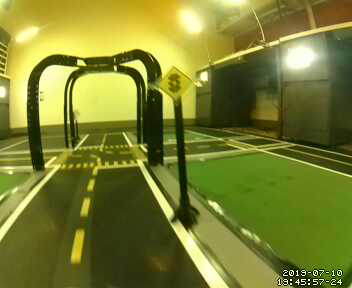Traffic light sign: (158, 62, 198, 97)
